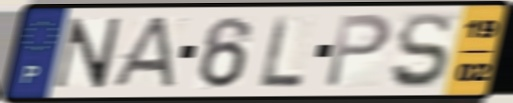6: (197, 14, 257, 90)
A: (105, 14, 179, 90)
L: (258, 13, 307, 90)
N: (50, 16, 125, 91)
P: (321, 12, 395, 91)
S: (387, 10, 454, 91)
